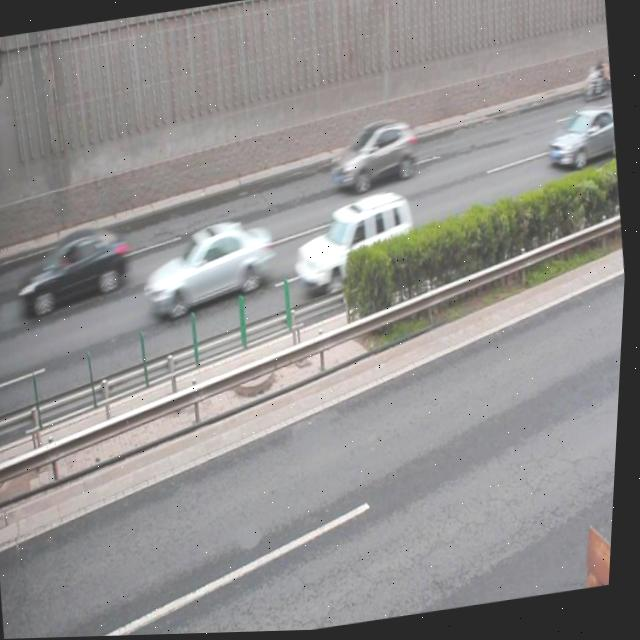car: (141, 216, 282, 319), (21, 226, 134, 316), (328, 118, 422, 197), (544, 108, 619, 169)
truck: (289, 196, 418, 292)
